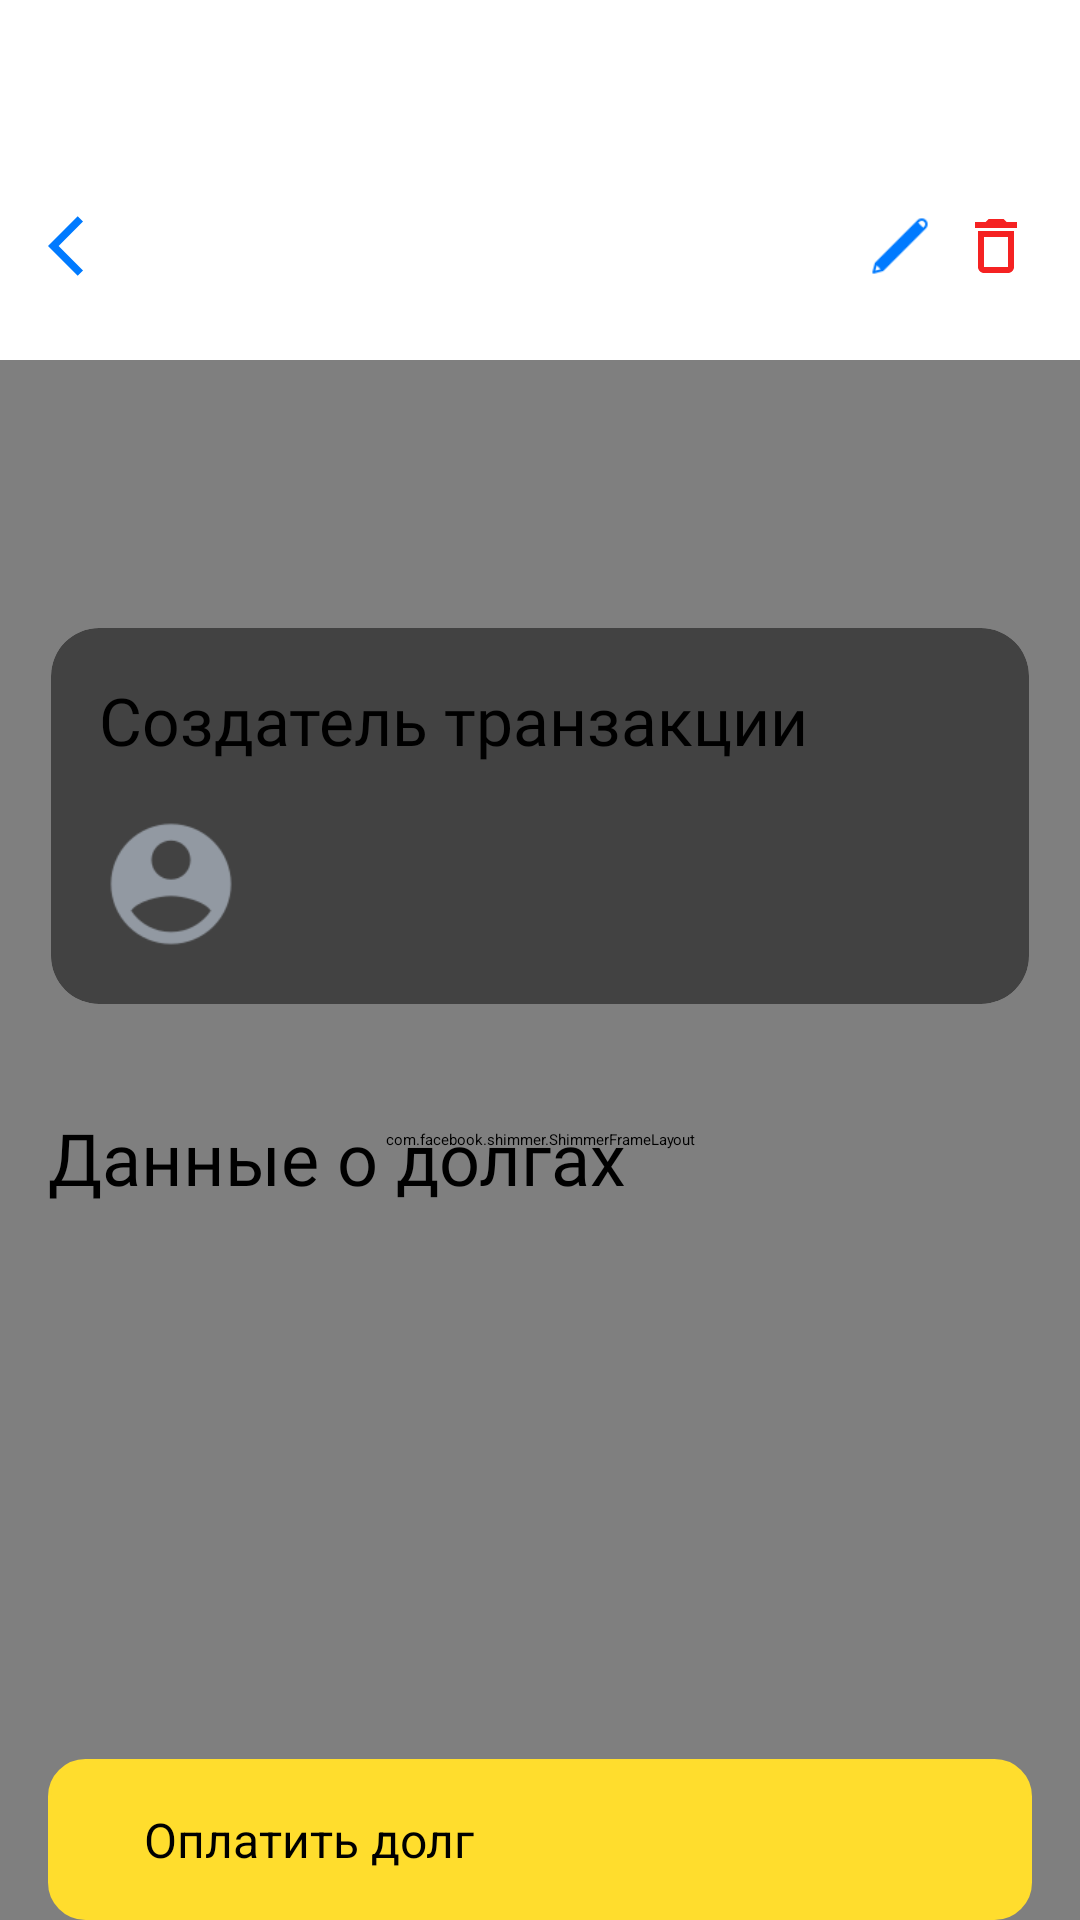

Named icons in this screenshot (1080px x 1920px) and their bounding boxes, (x1, y1, x2, y2):
back: (48, 216, 83, 276)
delete: (975, 219, 1017, 273)
edit: (872, 218, 928, 274)
Фото создателя: (110, 823, 232, 945)
